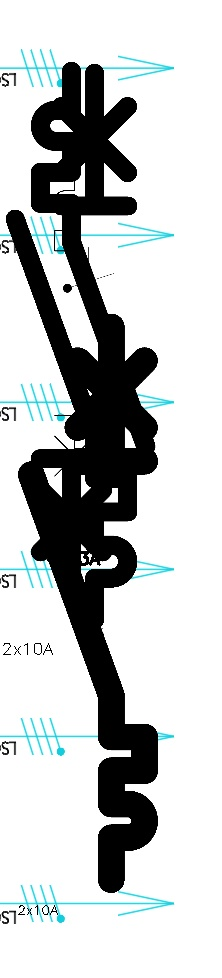interruptor_termomagnetico: (17, 312, 159, 893), (1, 59, 142, 634), (27, 58, 158, 596), (46, 157, 131, 505)
